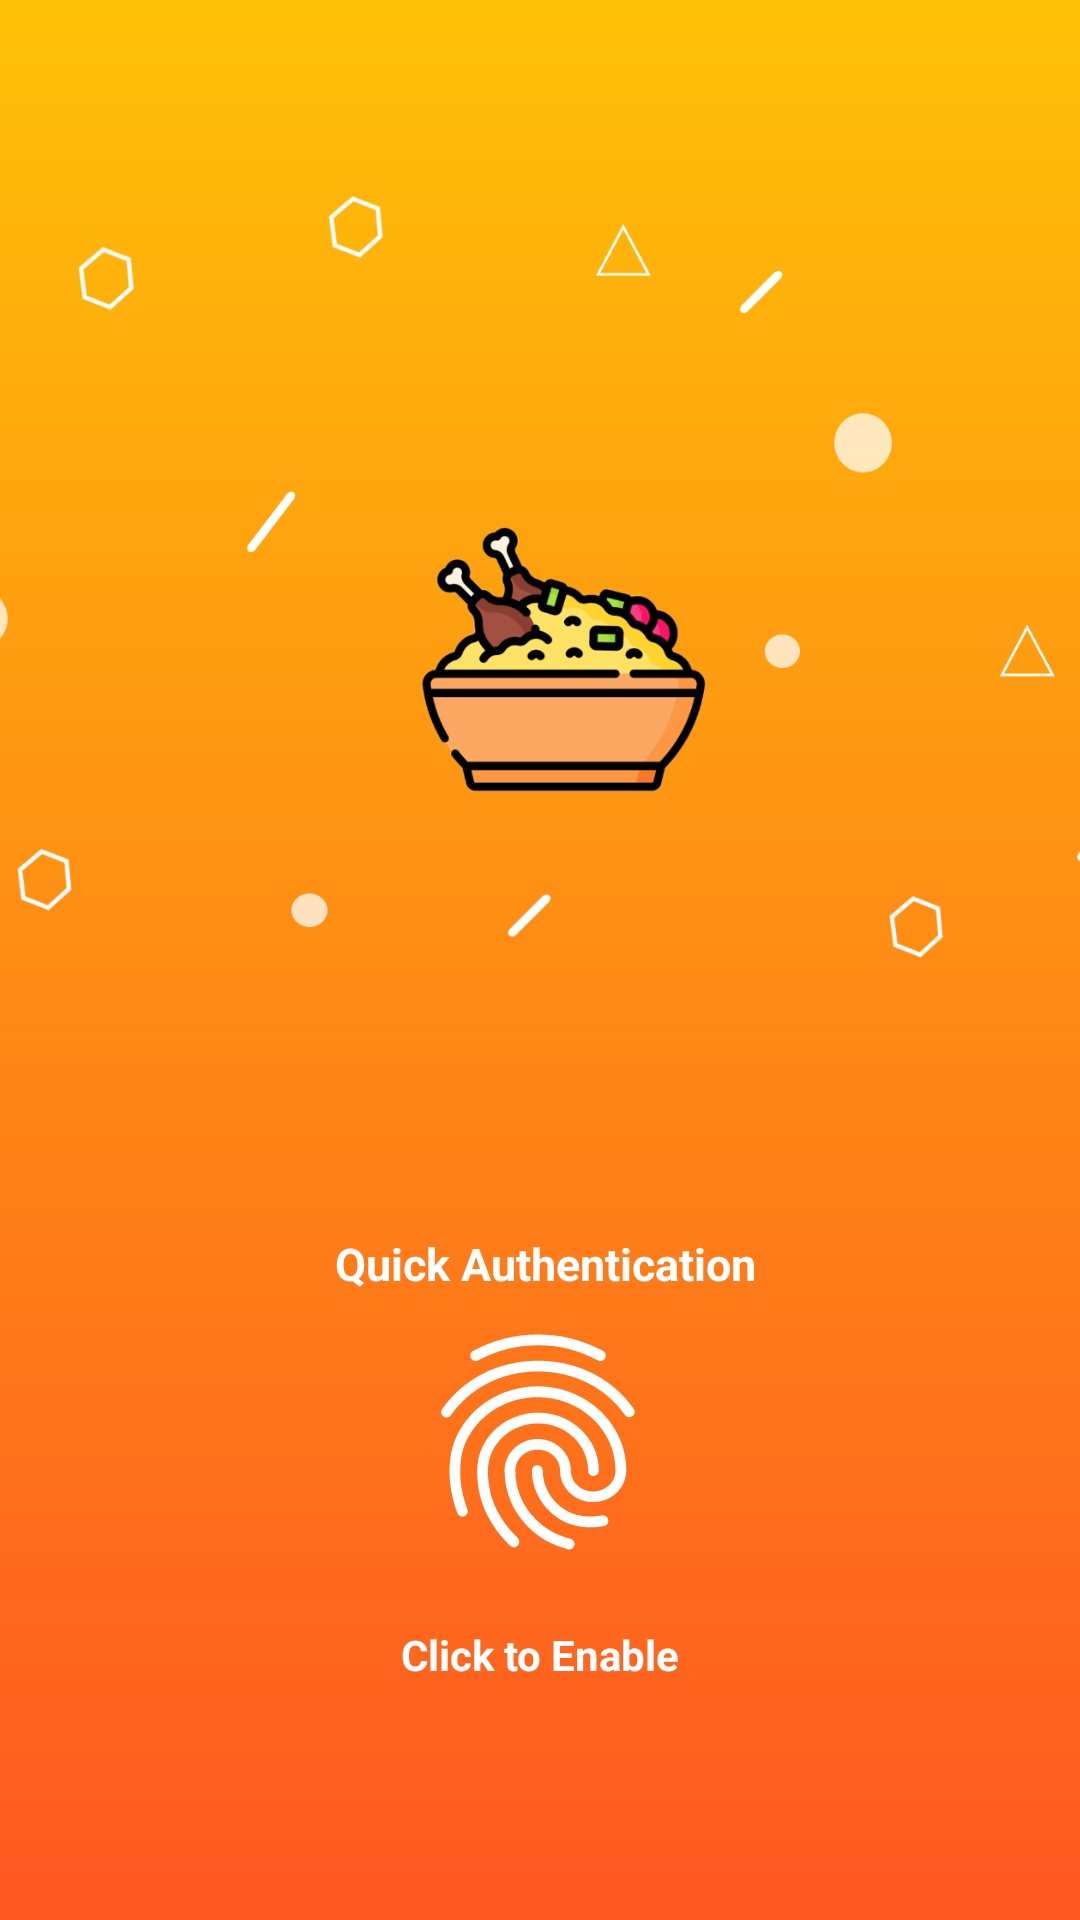

Point at icon controls on the screen. Image size 1080 x 1920, points as [x,y].
fingerprint: [538,1442]
